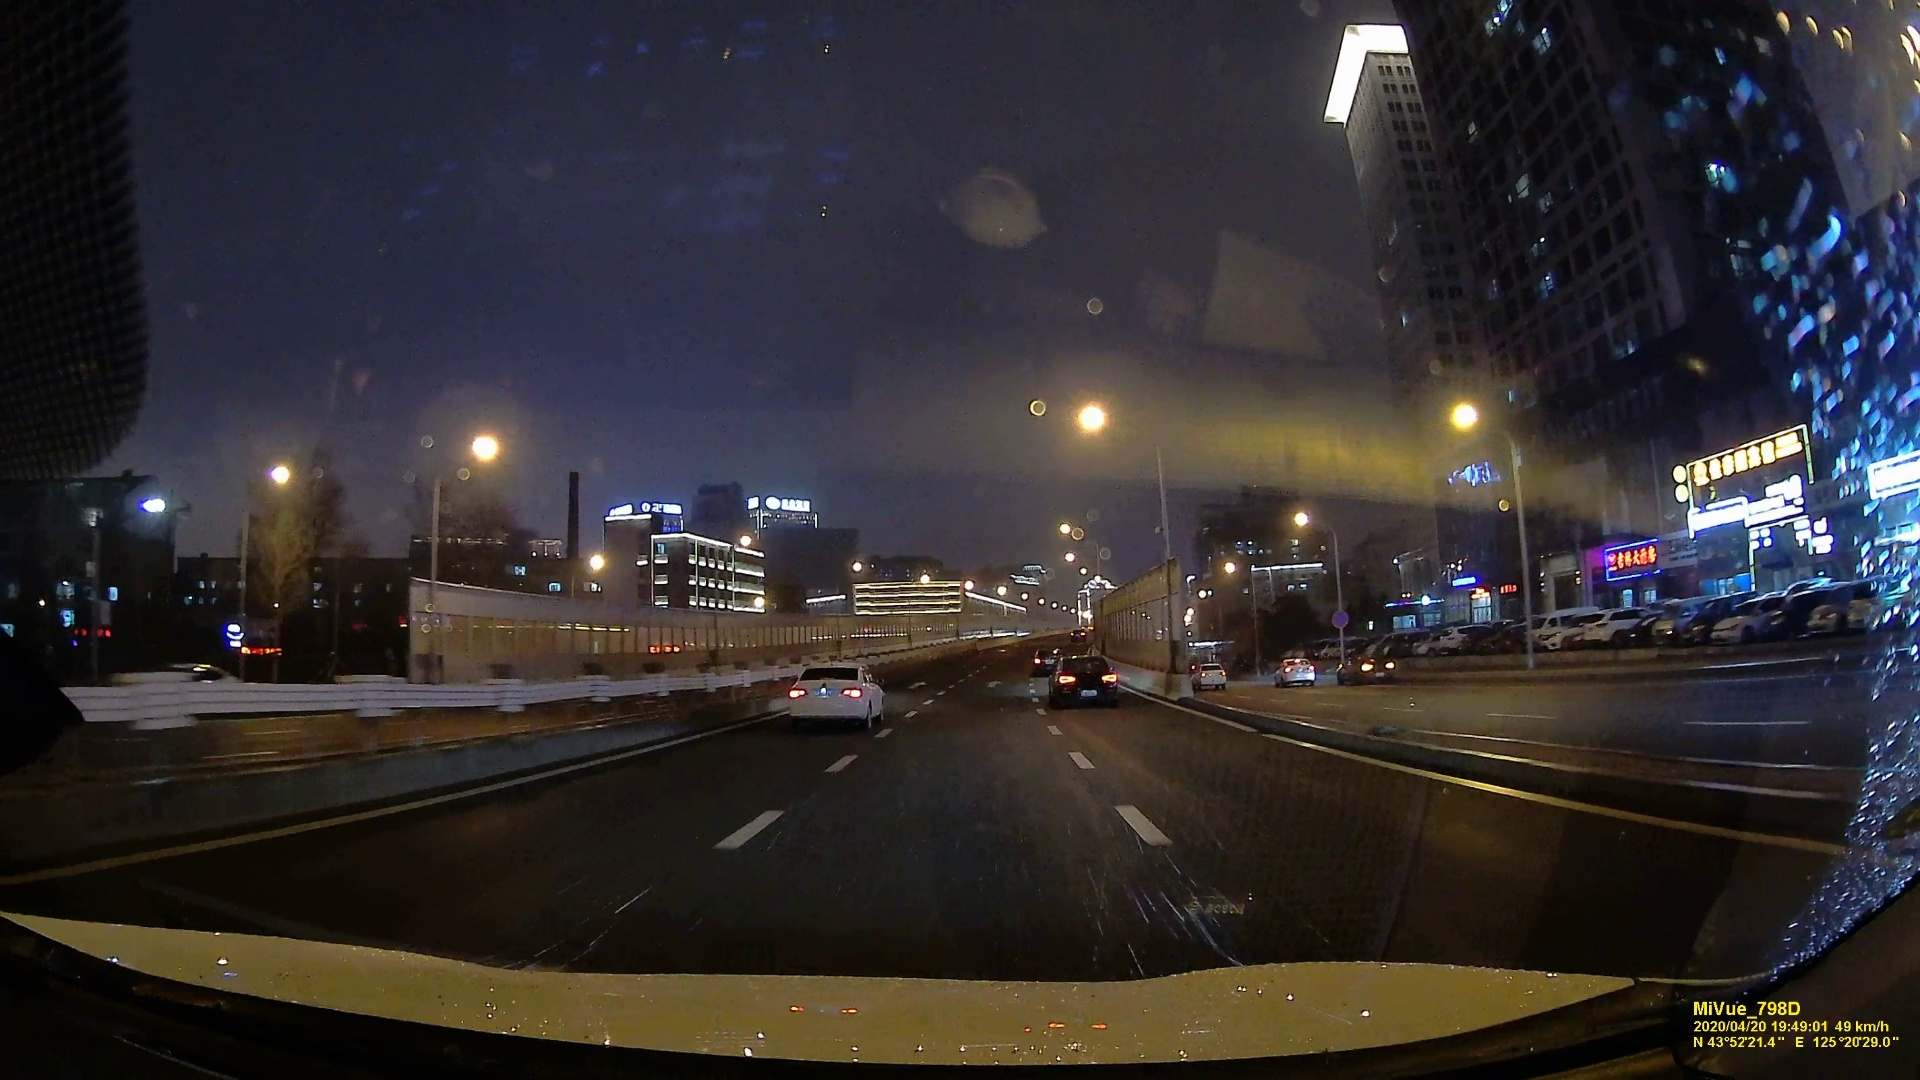vehicle: (785, 662, 885, 731), (1044, 655, 1116, 703), (1336, 651, 1398, 683), (1275, 657, 1315, 686), (1193, 661, 1228, 688)
